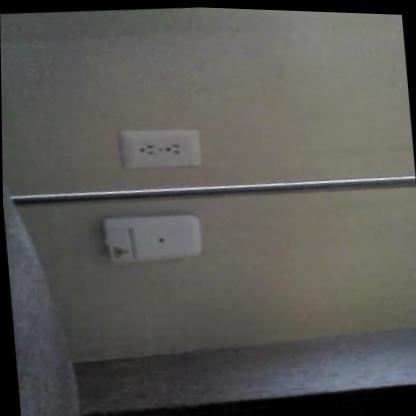OUTLET: (119, 125, 203, 172)
